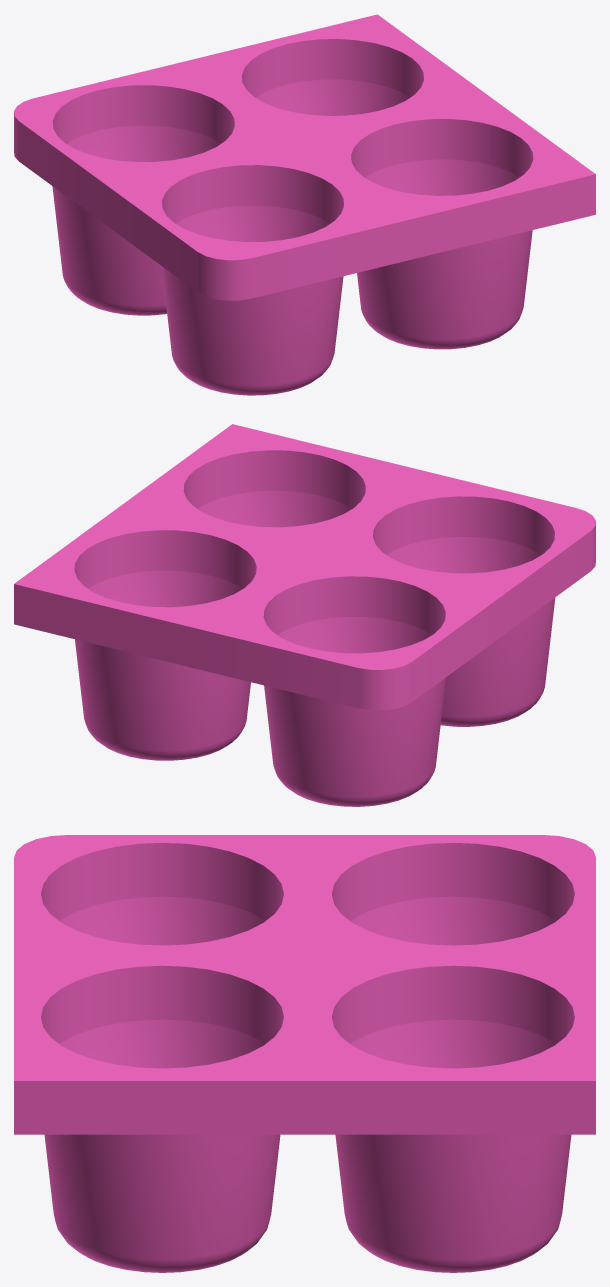
The model's file is Cupcake Tray Sort - Tray 2.fbx.
3 views of the same model, one above another, from view 1: azimuth 30°, elevation 25°; view 2: azimuth 150°, elevation 25°; view 3: azimuth 270°, elevation 25° (orthographic). The views are drawn at different scales.
Visible parts, largest first — view 1: tray 2; view 2: tray 2; view 3: tray 2.
Part boxes in pixels (left/top/right/bottom): tray 2: left=14, top=14, right=595, bottom=395; tray 2: left=14, top=424, right=595, bottom=806; tray 2: left=14, top=835, right=595, bottom=1272.
Size of the model in its own units: 0.098 by 0.098 by 0.0408.
